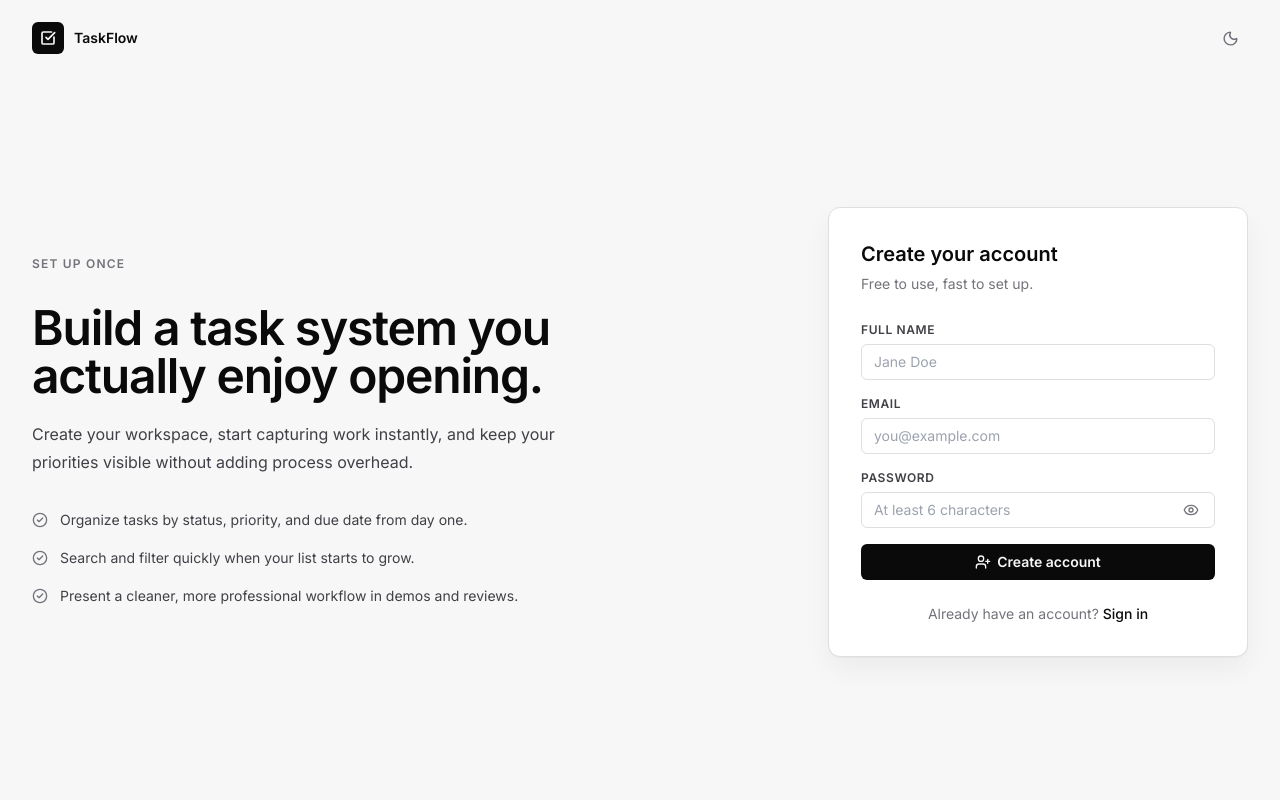
Authentication & Profile Component Testing › RegisterPage Component › validates minimum password length
The width and height of the screenshot is (1280, 800).
Type "Test User" into the field labelled "Full name" at coordinates (1038, 362), box x1=861 y1=344 x2=1215 y2=380
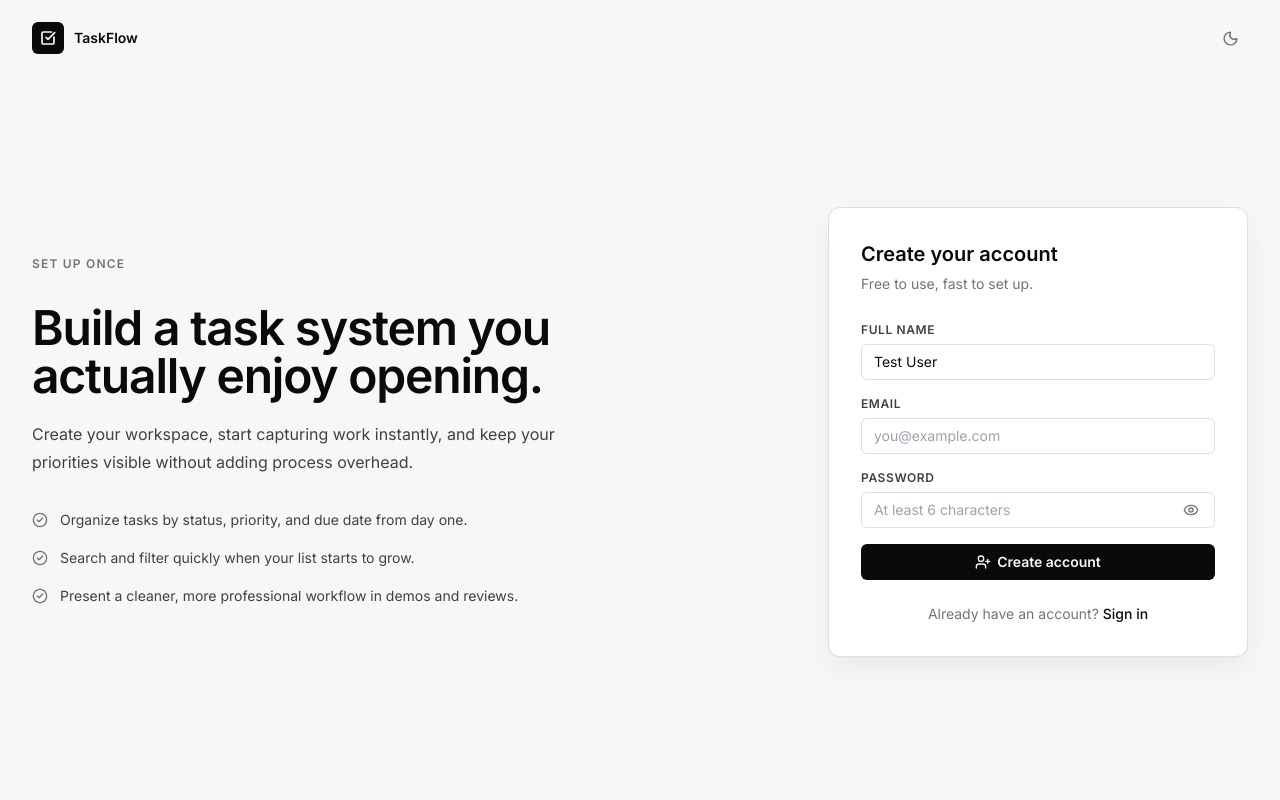
Type "test@example.com" into the field labelled "Email" at coordinates (1038, 436), box x1=861 y1=418 x2=1215 y2=454
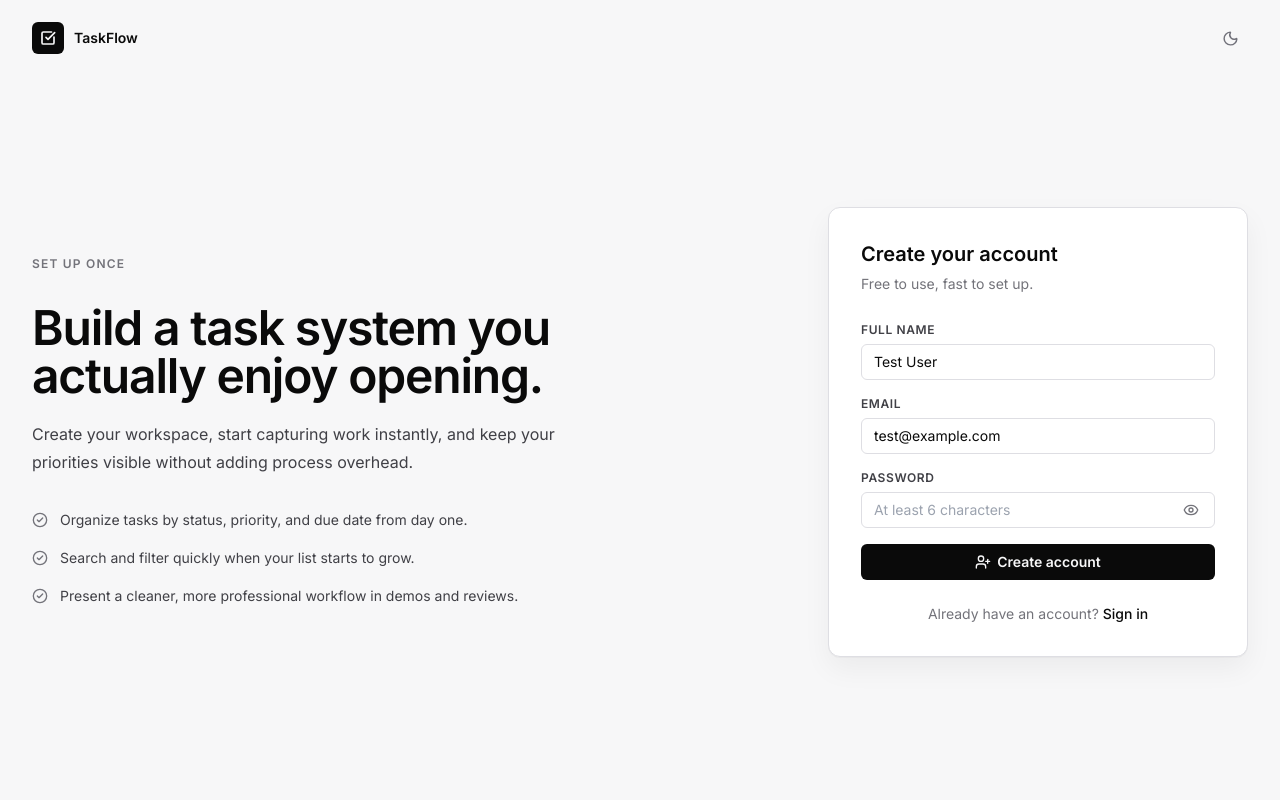
Type "123" into the password field labelled "Password" at coordinates (1038, 510), box x1=861 y1=492 x2=1215 y2=528
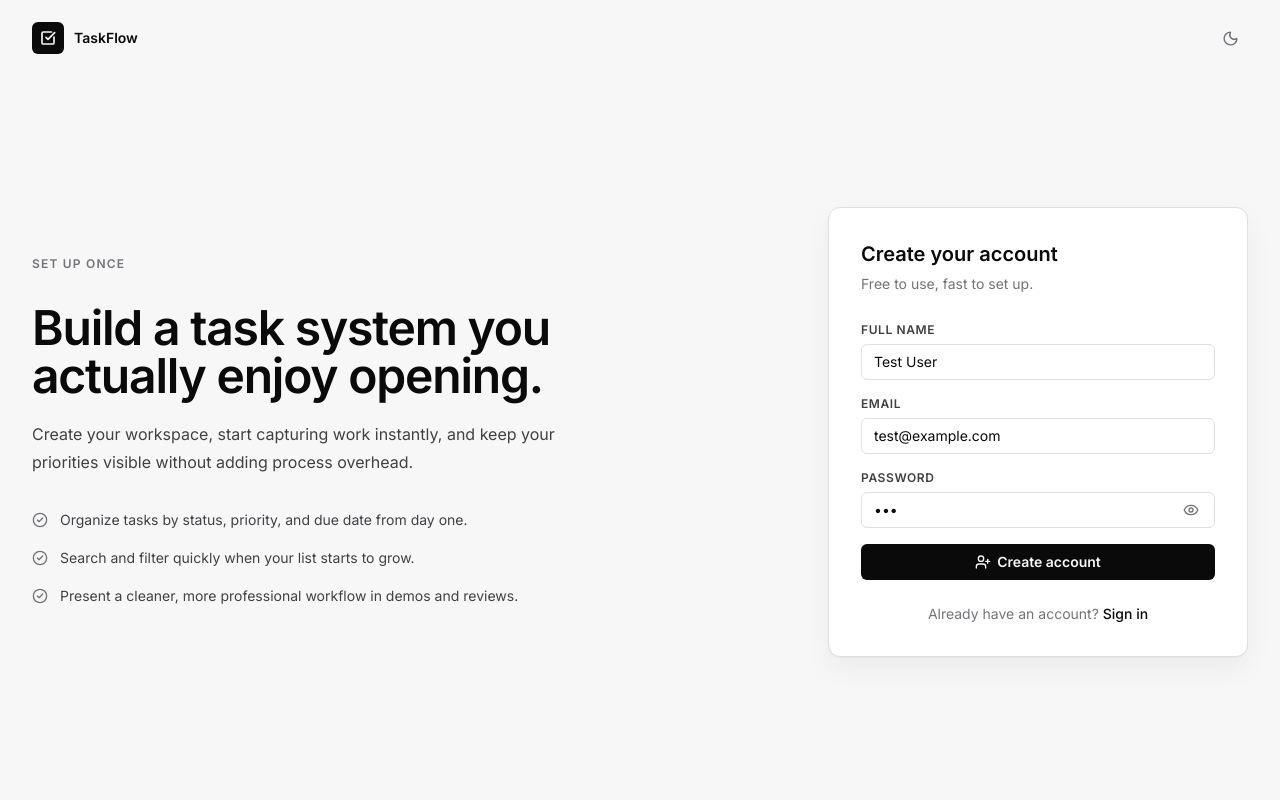
Click the button "Create account" at coordinates (1038, 562), box x1=861 y1=544 x2=1215 y2=580
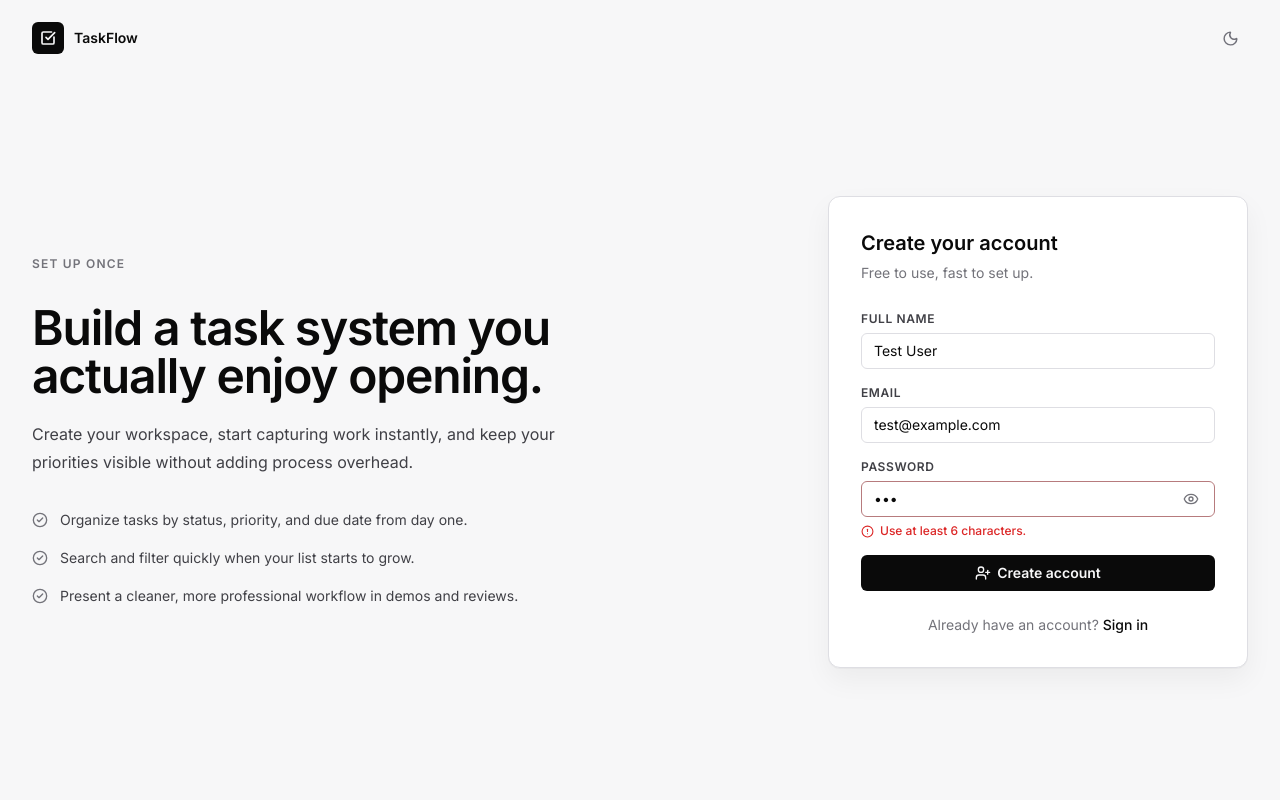
Result: the text "Use at least 6 characters." is shown at x1=880 y1=523 x2=1026 y2=539
